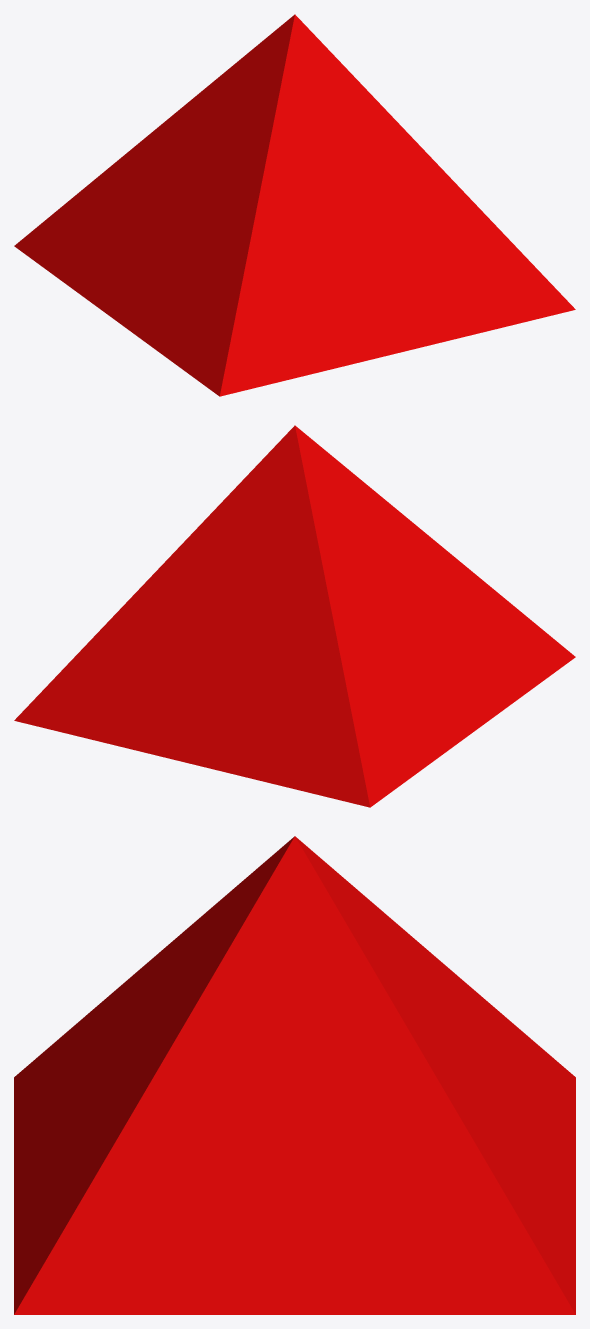
Rendered from Epyramid.fbx.
3 renders of one model, top to bottom at view 1: azimuth 30°, elevation 25°; view 2: azimuth 150°, elevation 25°; view 3: azimuth 270°, elevation 25°, orthographic. The views are drawn at different scales.
Visible parts, largest first — view 1: pasted__pPyramid1; view 2: pasted__pPyramid1; view 3: pasted__pPyramid1.
Boxes of the visible parts, box(x1,y1,x2,y2) form: pasted__pPyramid1: box(14, 14, 575, 396); pasted__pPyramid1: box(14, 425, 575, 807); pasted__pPyramid1: box(14, 836, 575, 1314).
Bounding box in the file's own units: 0.7015 × 0.496 × 0.7015.
